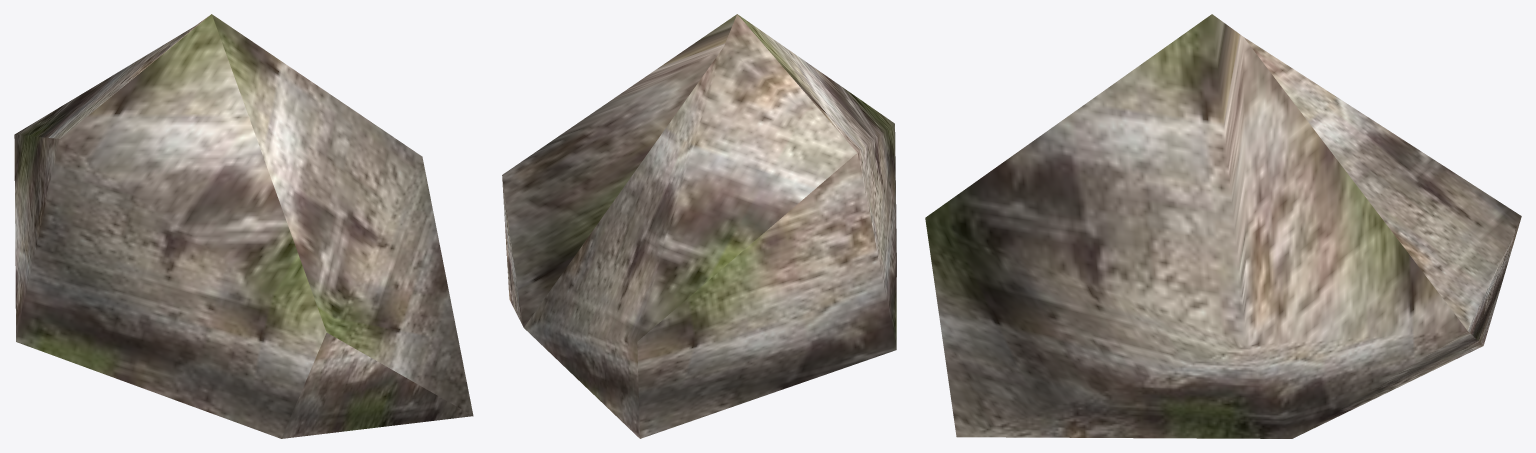
The model's file is rocksmall.glb.
3 renders of one model, left to right at view 1: azimuth 30°, elevation 25°; view 2: azimuth 150°, elevation 25°; view 3: azimuth 270°, elevation 25°, orthographic. The views are drawn at different scales.
Visible parts, largest first — view 1: rock.ms3d.mo; view 2: rock.ms3d.mo; view 3: rock.ms3d.mo.
Part boxes in pixels (x1,y1,x2,y2): rock.ms3d.mo: [14, 14, 473, 438]; rock.ms3d.mo: [502, 14, 896, 438]; rock.ms3d.mo: [925, 14, 1521, 438].
Size of the model in its own units: 33.37 by 26.91 by 41.07.
Materials: 1 (1 with a texture image).
